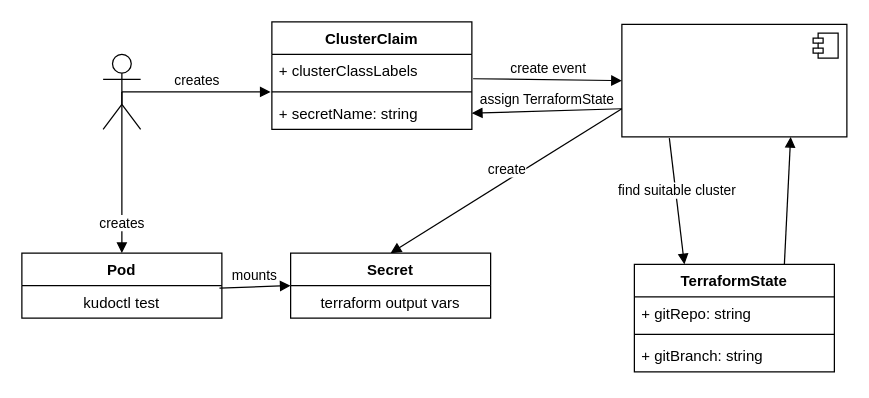
This 869x398 diagram has some shape labels left out. Each missing label, with the centre of its shape:
"ClusterController" belongs at [734,80].
"Developer" belongs at [121,91].
